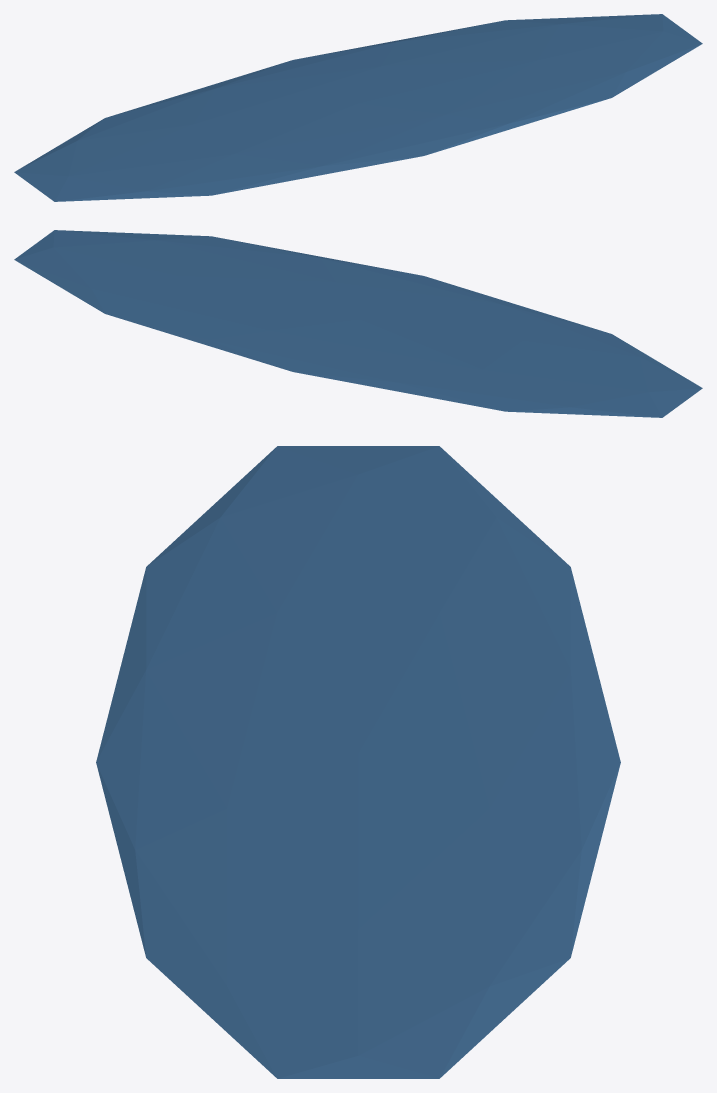
File: fish_shadow_uniform.glb
The picture shows the model from 3 angles, top to bottom: view 1: azimuth 30°, elevation 25°; view 2: azimuth 150°, elevation 25°; view 3: azimuth 270°, elevation 25°; orthographic projection. The views are drawn at different scales.
Visible parts, largest first — view 1: fish_shadow_uniform; view 2: fish_shadow_uniform; view 3: fish_shadow_uniform.
Part boxes in pixels (left/top/right/bottom): fish_shadow_uniform: left=14, top=14, right=702, bottom=201; fish_shadow_uniform: left=14, top=230, right=702, bottom=417; fish_shadow_uniform: left=96, top=446, right=620, bottom=1078.
Size of the model in its own units: 0.856 by 0.012 by 0.3.
